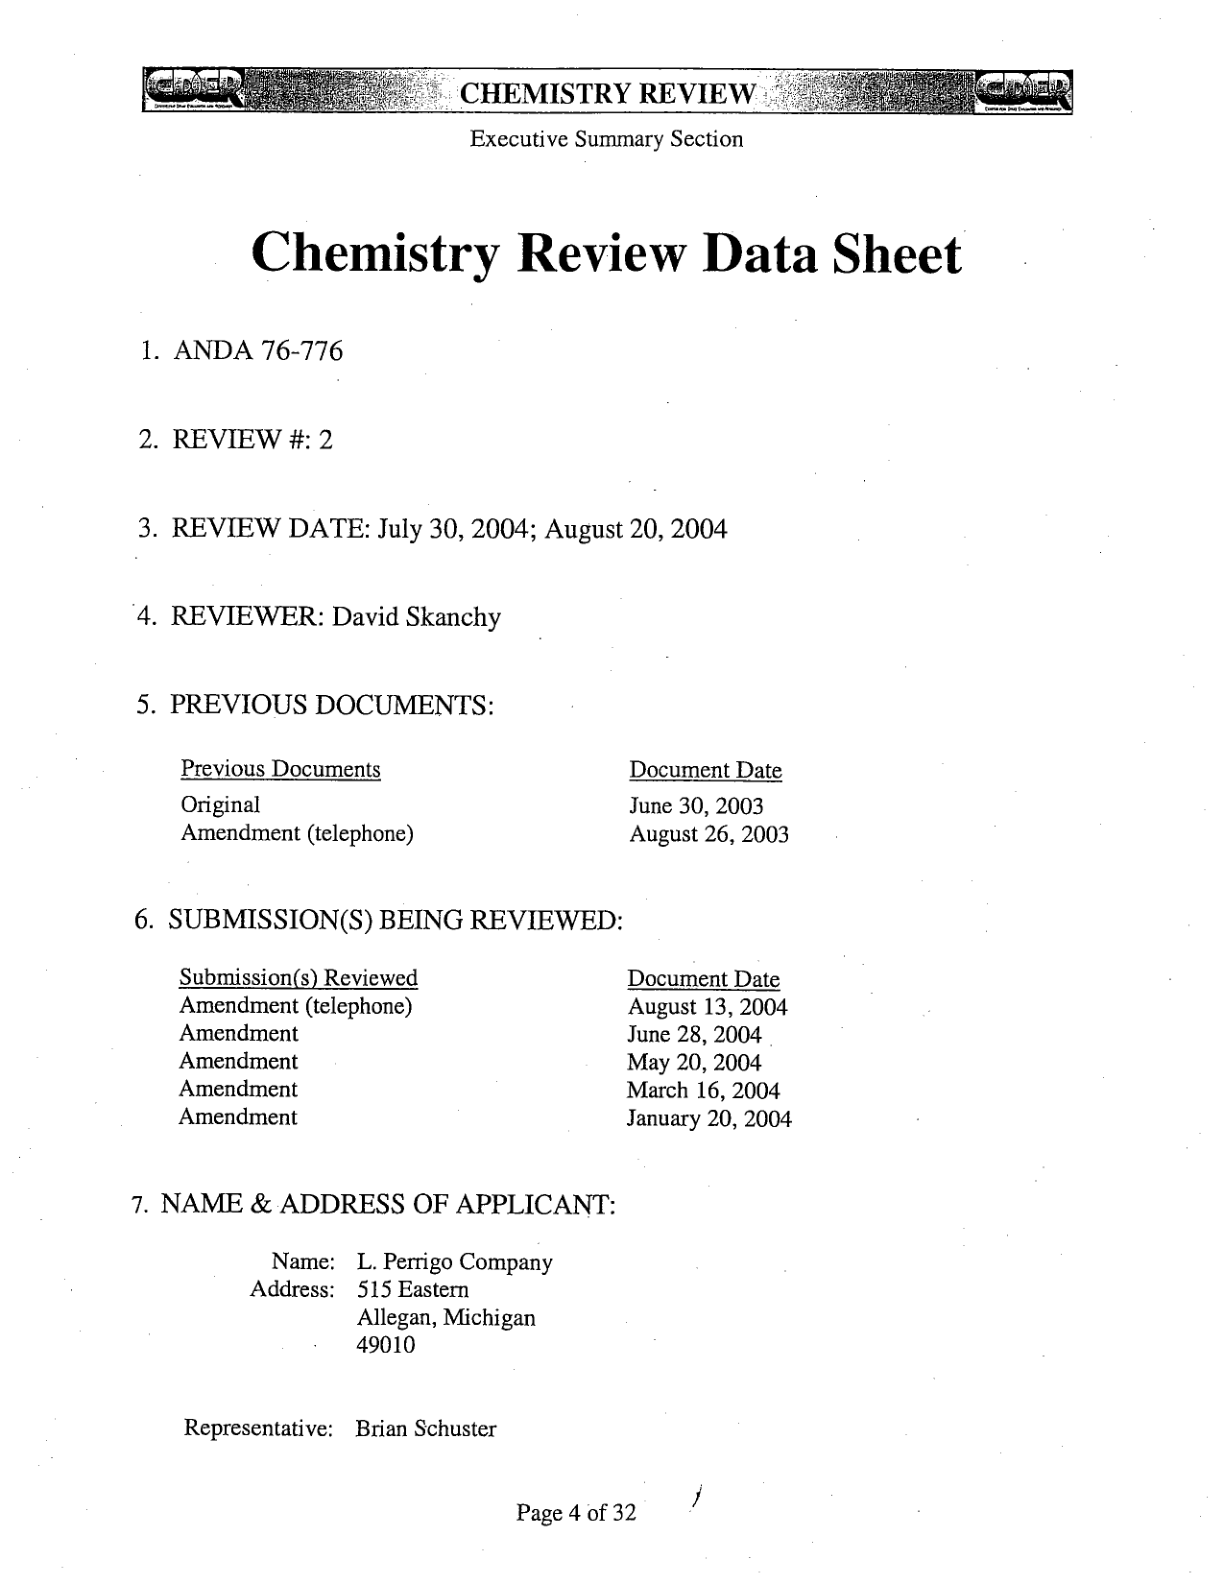nolines: (177, 963, 798, 1131), (175, 753, 793, 849), (247, 1245, 559, 1359)
